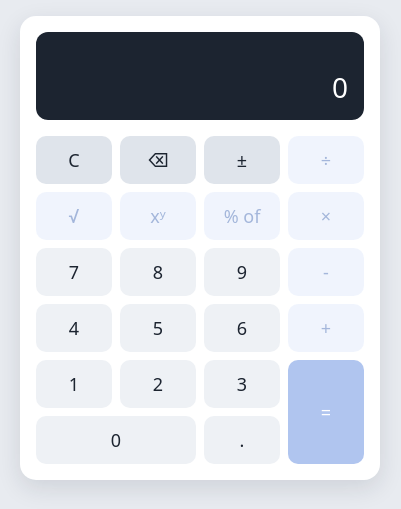
Test case: Calculator keypad › shows the backend message for 1 ÷ 0 clicked on the keypad
The width and height of the screenshot is (401, 509).
Click the button "1" at (74, 384), box [36,360,112,408]
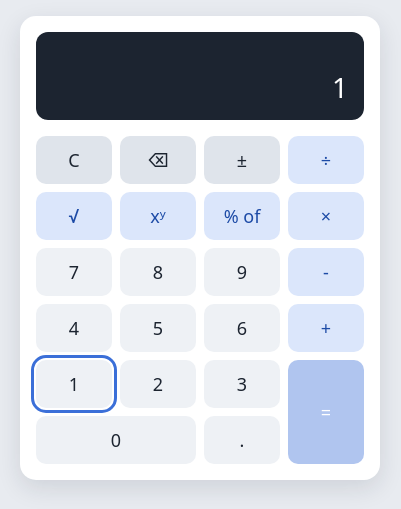
Click the button named "Divide" at (326, 160), box [288,136,364,184]
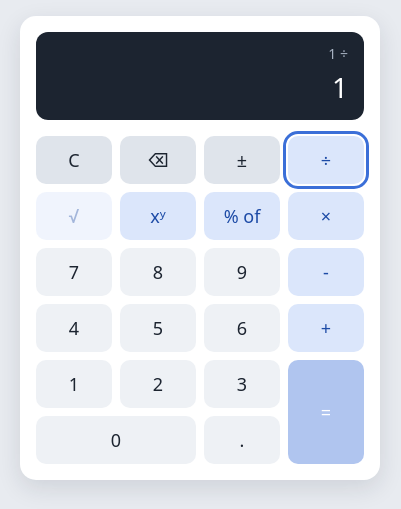
Click the button "0" at (116, 440), box [36,416,196,464]
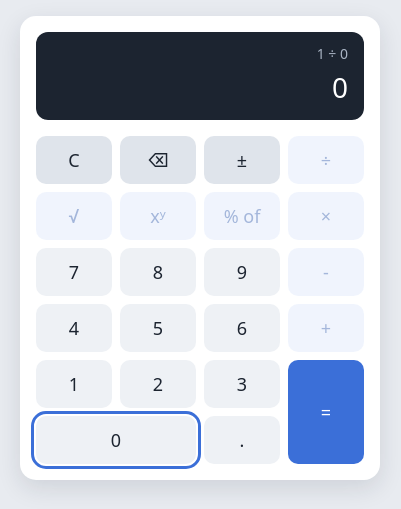
Click the button named "Equals" at (326, 412), box [288,360,364,464]
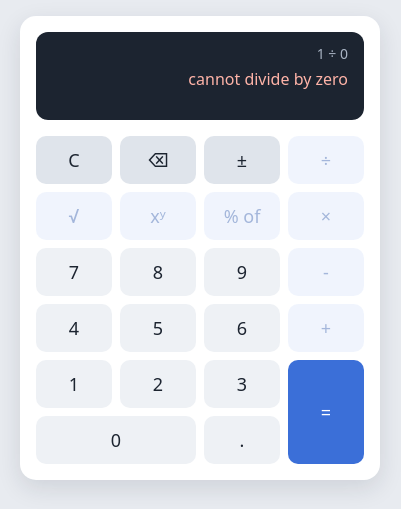
Expected: the message reads "cannot divide by zero", [188,68,348,90]
